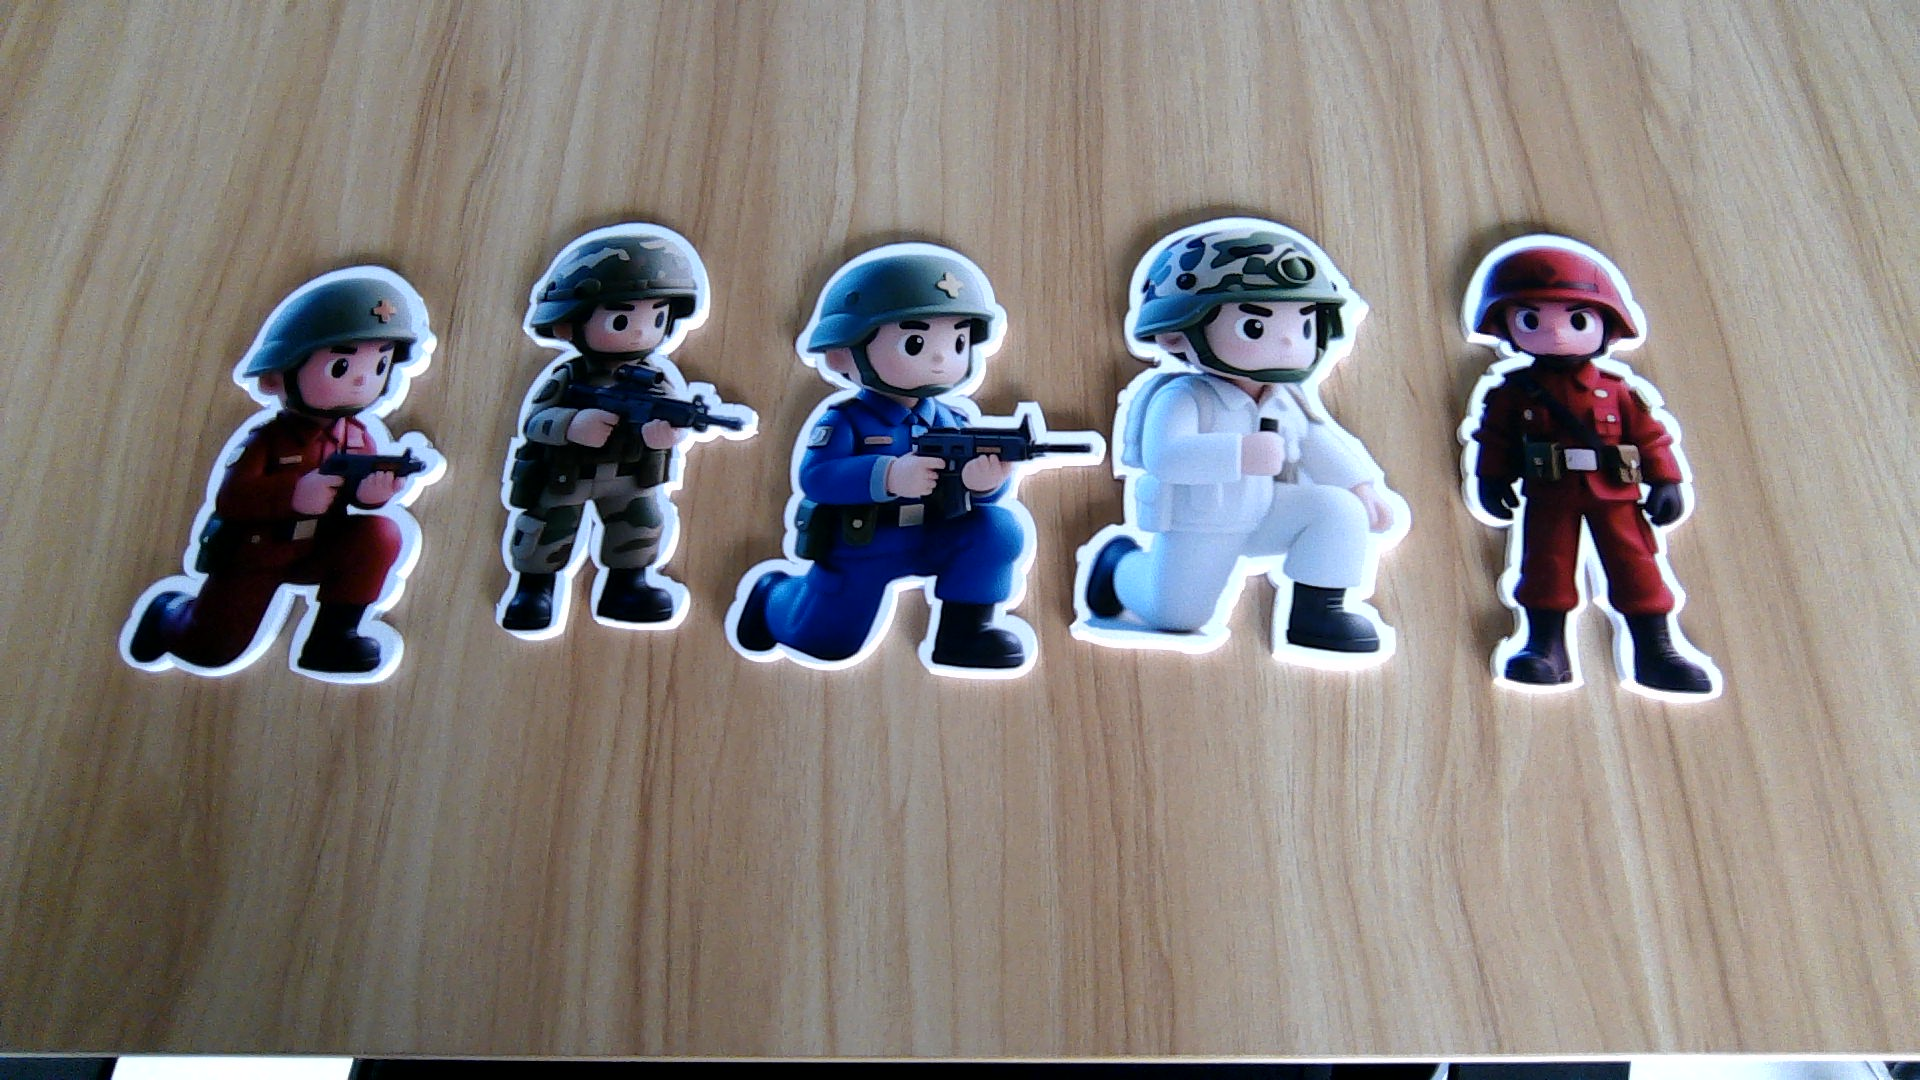人质: (1076, 377, 1408, 671)
友军: (491, 353, 723, 642)
敌人1: (1451, 357, 1733, 708), (116, 417, 446, 684)
敌人2: (731, 402, 1069, 680)
